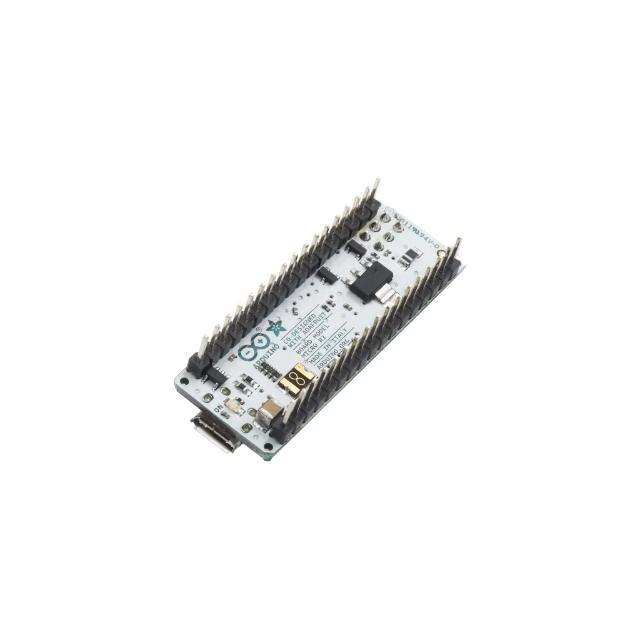Arduino-Micro: (176, 189, 464, 462)
